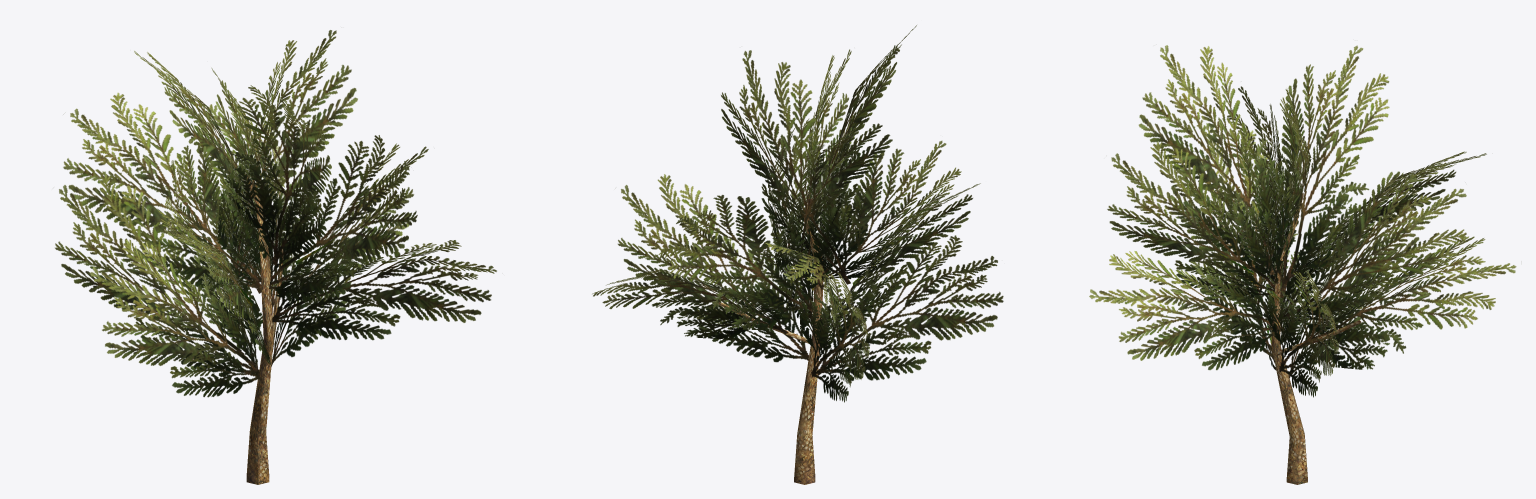
File: ph_tree3.glb
The picture shows the model from 3 angles, left to right: view 1: azimuth 30°, elevation 25°; view 2: azimuth 150°, elevation 25°; view 3: azimuth 270°, elevation 25°; orthographic projection. The views are drawn at different scales.
Parts seen in each view (by area): view 1: ph_tree3-col; view 2: ph_tree3-col; view 3: ph_tree3-col.
Part boxes in pixels (box(x1,y1,x2,y2)): ph_tree3-col: box(55, 30, 496, 484); ph_tree3-col: box(592, 25, 1003, 484); ph_tree3-col: box(1089, 45, 1516, 484).
Bounding box in the file's own units: 5.3 × 5.39 × 5.13.
2 materials, 2 textured.
